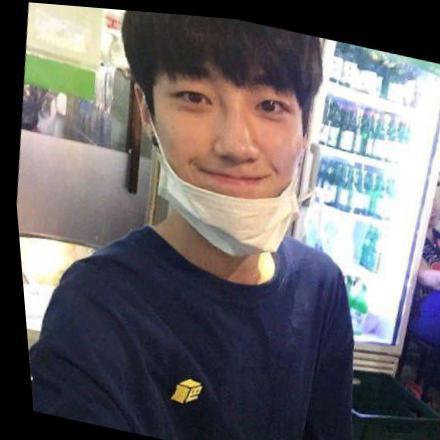WRONG: (127, 32, 323, 247)
